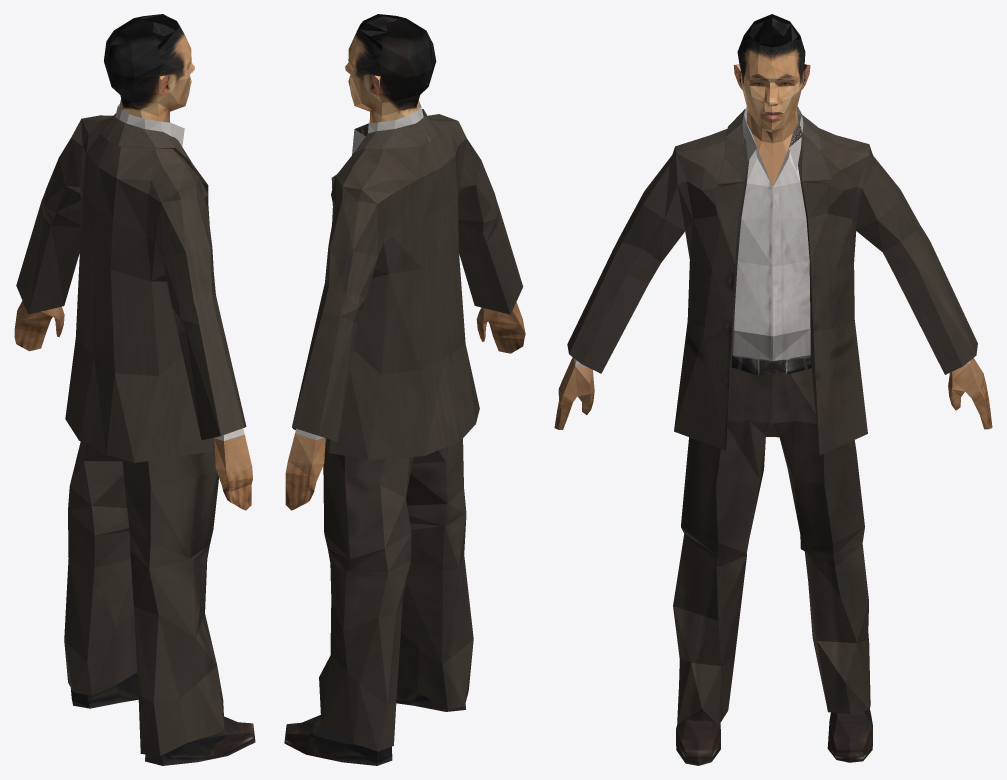
File: somyri.obj
3 views of the same model, side by side, from view 1: azimuth 30°, elevation 25°; view 2: azimuth 150°, elevation 25°; view 3: azimuth 270°, elevation 25° (orthographic).
Parts seen in each view (by area): view 1: _Pelvis; view 2: _Pelvis; view 3: _Pelvis.
Boxes of the visible parts, <box> form: _Pelvis: <box>14,14,255,765</box>; _Pelvis: <box>284,14,525,765</box>; _Pelvis: <box>554,14,992,765</box>.
Bounding box in the file's own units: 0.3798 × 1.86 × 1.04.
1 material, 1 textured.
